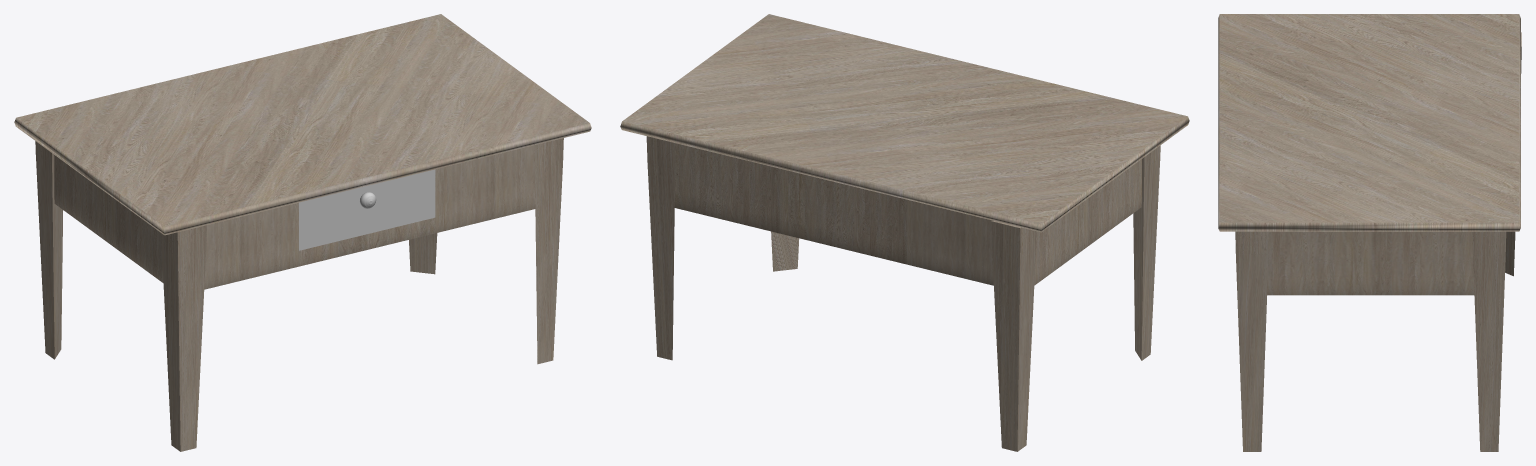
Rendered from table1.fbx.
3 renders of one model, left to right at view 1: azimuth 30°, elevation 25°; view 2: azimuth 150°, elevation 25°; view 3: azimuth 270°, elevation 25°, orthographic. The views are drawn at different scales.
Parts seen in each view (by area): view 1: pCube3, pCube2, pasted__pCube1 (×2), pCube1, pCube4, pasted__pCube2; view 2: pCube3, pCube2, pasted__pCube1 (×2), pasted__pCube2, pCube1; view 3: pCube3, pCube2, pasted__pCube1 (×2), pasted__pCube2.
Part boxes in pixels (x1,y1,x2,y2): pCube3: (14,14,591,235); pCube2: (54,145,535,289); pasted__pCube1 (×2): (35,138,563,364); pCube1: (161,225,206,451); pCube4: (299,169,435,250); pasted__pCube2: (409,233,437,274); pCube3: (620,14,1189,232); pCube2: (674,143,1141,285); pasted__pCube1 (×2): (771,220,1036,451); pasted__pCube2: (646,136,675,360); pCube1: (1133,145,1160,360); pCube3: (1218,14,1520,231); pCube2: (1267,231,1474,295); pasted__pCube1 (×2): (1235,32,1521,451); pasted__pCube2: (1472,231,1506,451).
Size of the model in its own units: 2.24 by 1.2 by 1.37.
